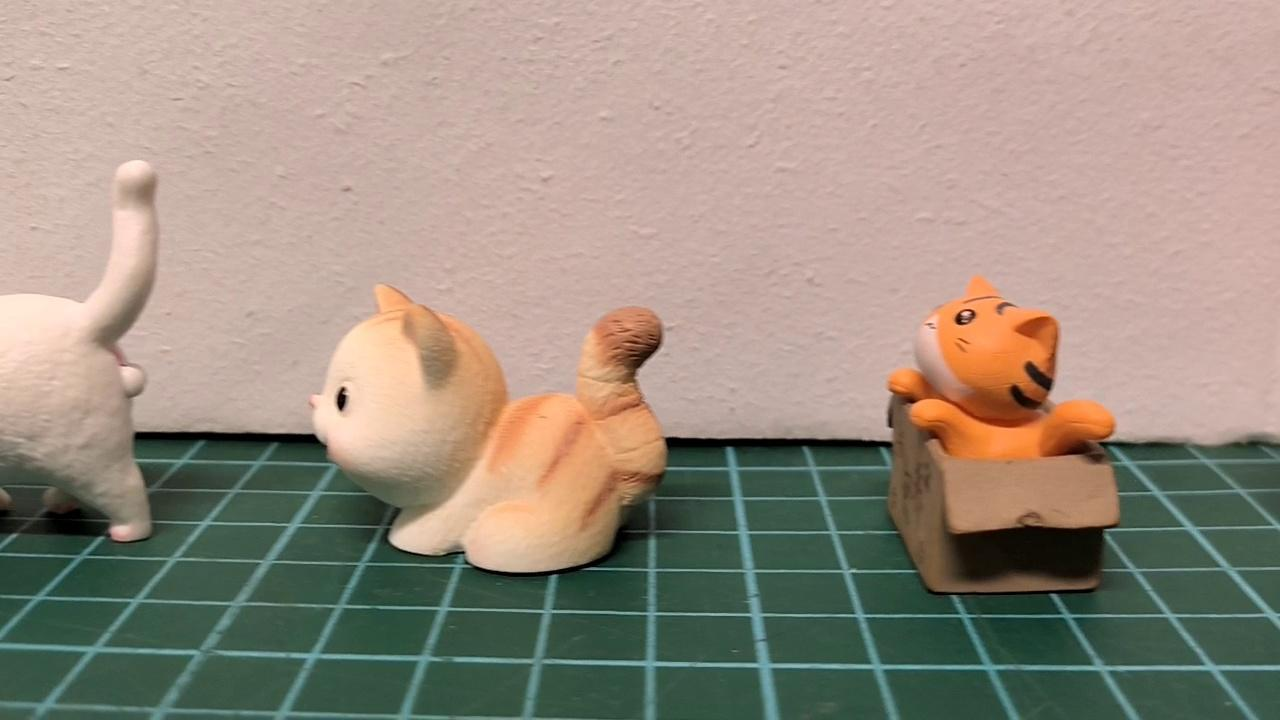pet: (300, 275, 673, 578), (883, 267, 1120, 468)
